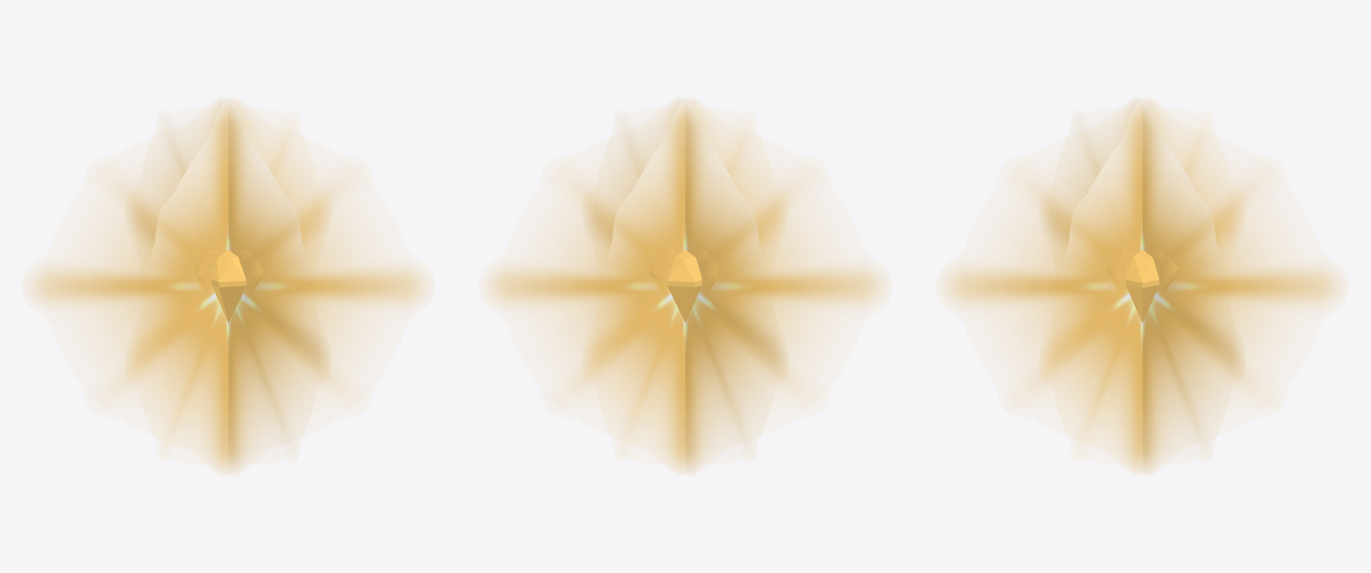
Rendered from TreasureDropItem.gltf.
The picture shows the model from 3 angles, left to right: view 1: azimuth 30°, elevation 25°; view 2: azimuth 150°, elevation 25°; view 3: azimuth 270°, elevation 25°; orthographic projection.
Visible parts, largest first — view 1: Glow, Gem; view 2: Glow, Gem; view 3: Glow, Gem.
Part boxes in pixels (box(x1,y1,x2,y2)): Glow: box(29, 99, 427, 473); Gem: box(194, 250, 263, 322); Glow: box(486, 99, 884, 473); Gem: box(650, 250, 719, 322); Glow: box(943, 99, 1341, 473); Gem: box(1106, 250, 1178, 322).
Size of the model in its own units: 2.47 by 2.85 by 2.85.
Materials: 2 (2 with a texture image).
